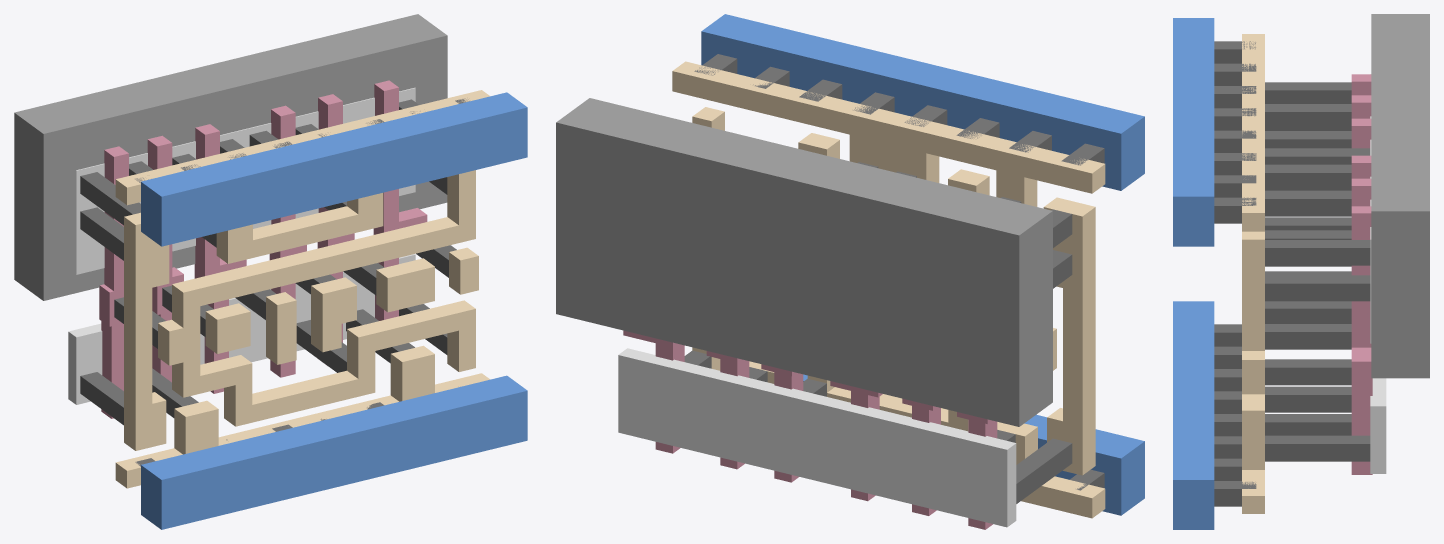
Rendered from sky130_fd_sc_hd__a311o_1.gds.gltf.
The picture shows the model from 3 angles, left to right: view 1: azimuth 30°, elevation 25°; view 2: azimuth 150°, elevation 25°; view 3: azimuth 270°, elevation 25°; orthographic projection. The views are drawn at different scales.
Parts seen in each view (by area): view 1: sky130_fd_sc_hd__a311o_1_li1, sky130_fd_sc_hd__a311o_1_met1, sky130_fd_sc_hd__a311o_1_nwell, sky130_fd_sc_hd__a311o_1_poly, sky130_fd_sc_hd__a311o_1_licon, sky130_fd_sc_hd__a311o_1_diff, sky130_fd_sc_hd__a311o_1_mcon; view 2: sky130_fd_sc_hd__a311o_1_nwell, sky130_fd_sc_hd__a311o_1_diff, sky130_fd_sc_hd__a311o_1_li1, sky130_fd_sc_hd__a311o_1_met1, sky130_fd_sc_hd__a311o_1_mcon, sky130_fd_sc_hd__a311o_1_poly, sky130_fd_sc_hd__a311o_1_licon; view 3: sky130_fd_sc_hd__a311o_1_licon, sky130_fd_sc_hd__a311o_1_nwell, sky130_fd_sc_hd__a311o_1_met1, sky130_fd_sc_hd__a311o_1_mcon, sky130_fd_sc_hd__a311o_1_li1, sky130_fd_sc_hd__a311o_1_poly, sky130_fd_sc_hd__a311o_1_diff.
Boxes of the visible parts, x1=… form: sky130_fd_sc_hd__a311o_1_li1: x1=115, y1=90, x2=489, y2=488; sky130_fd_sc_hd__a311o_1_met1: x1=141, y1=92, x2=527, y2=529; sky130_fd_sc_hd__a311o_1_nwell: x1=14, y1=14, x2=447, y2=300; sky130_fd_sc_hd__a311o_1_poly: x1=99, y1=80, x2=427, y2=418; sky130_fd_sc_hd__a311o_1_licon: x1=80, y1=99, x2=456, y2=425; sky130_fd_sc_hd__a311o_1_diff: x1=68, y1=87, x2=415, y2=404; sky130_fd_sc_hd__a311o_1_mcon: x1=135, y1=98, x2=469, y2=466; sky130_fd_sc_hd__a311o_1_nwell: x1=556, y1=98, x2=1052, y2=426; sky130_fd_sc_hd__a311o_1_diff: x1=618, y1=348, x2=1016, y2=527; sky130_fd_sc_hd__a311o_1_li1: x1=672, y1=61, x2=1105, y2=518; sky130_fd_sc_hd__a311o_1_met1: x1=701, y1=14, x2=1144, y2=515; sky130_fd_sc_hd__a311o_1_mcon: x1=694, y1=54, x2=1104, y2=490; sky130_fd_sc_hd__a311o_1_poly: x1=623, y1=330, x2=997, y2=529; sky130_fd_sc_hd__a311o_1_licon: x1=684, y1=162, x2=1072, y2=503; sky130_fd_sc_hd__a311o_1_licon: x1=1265, y1=82, x2=1370, y2=461; sky130_fd_sc_hd__a311o_1_nwell: x1=1371, y1=14, x2=1429, y2=378; sky130_fd_sc_hd__a311o_1_met1: x1=1173, y1=18, x2=1214, y2=529; sky130_fd_sc_hd__a311o_1_mcon: x1=1214, y1=41, x2=1256, y2=506; sky130_fd_sc_hd__a311o_1_li1: x1=1242, y1=34, x2=1264, y2=513; sky130_fd_sc_hd__a311o_1_poly: x1=1351, y1=74, x2=1372, y2=474; sky130_fd_sc_hd__a311o_1_diff: x1=1370, y1=74, x2=1386, y2=473.
Bounding box in the file's own units: 4.06 × 3.2 × 2.24.
